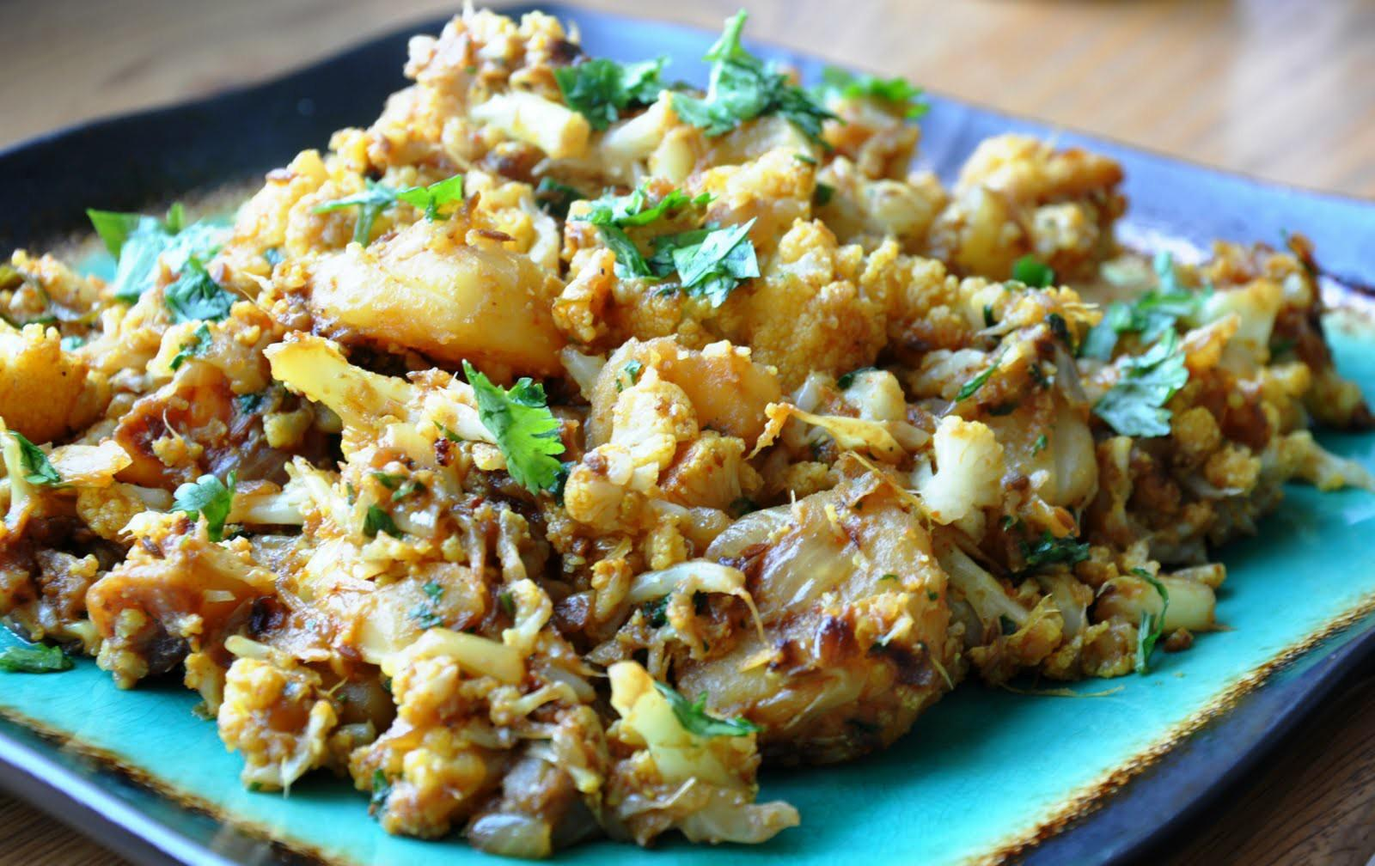AlooGobi: (2, 0, 1374, 858)
